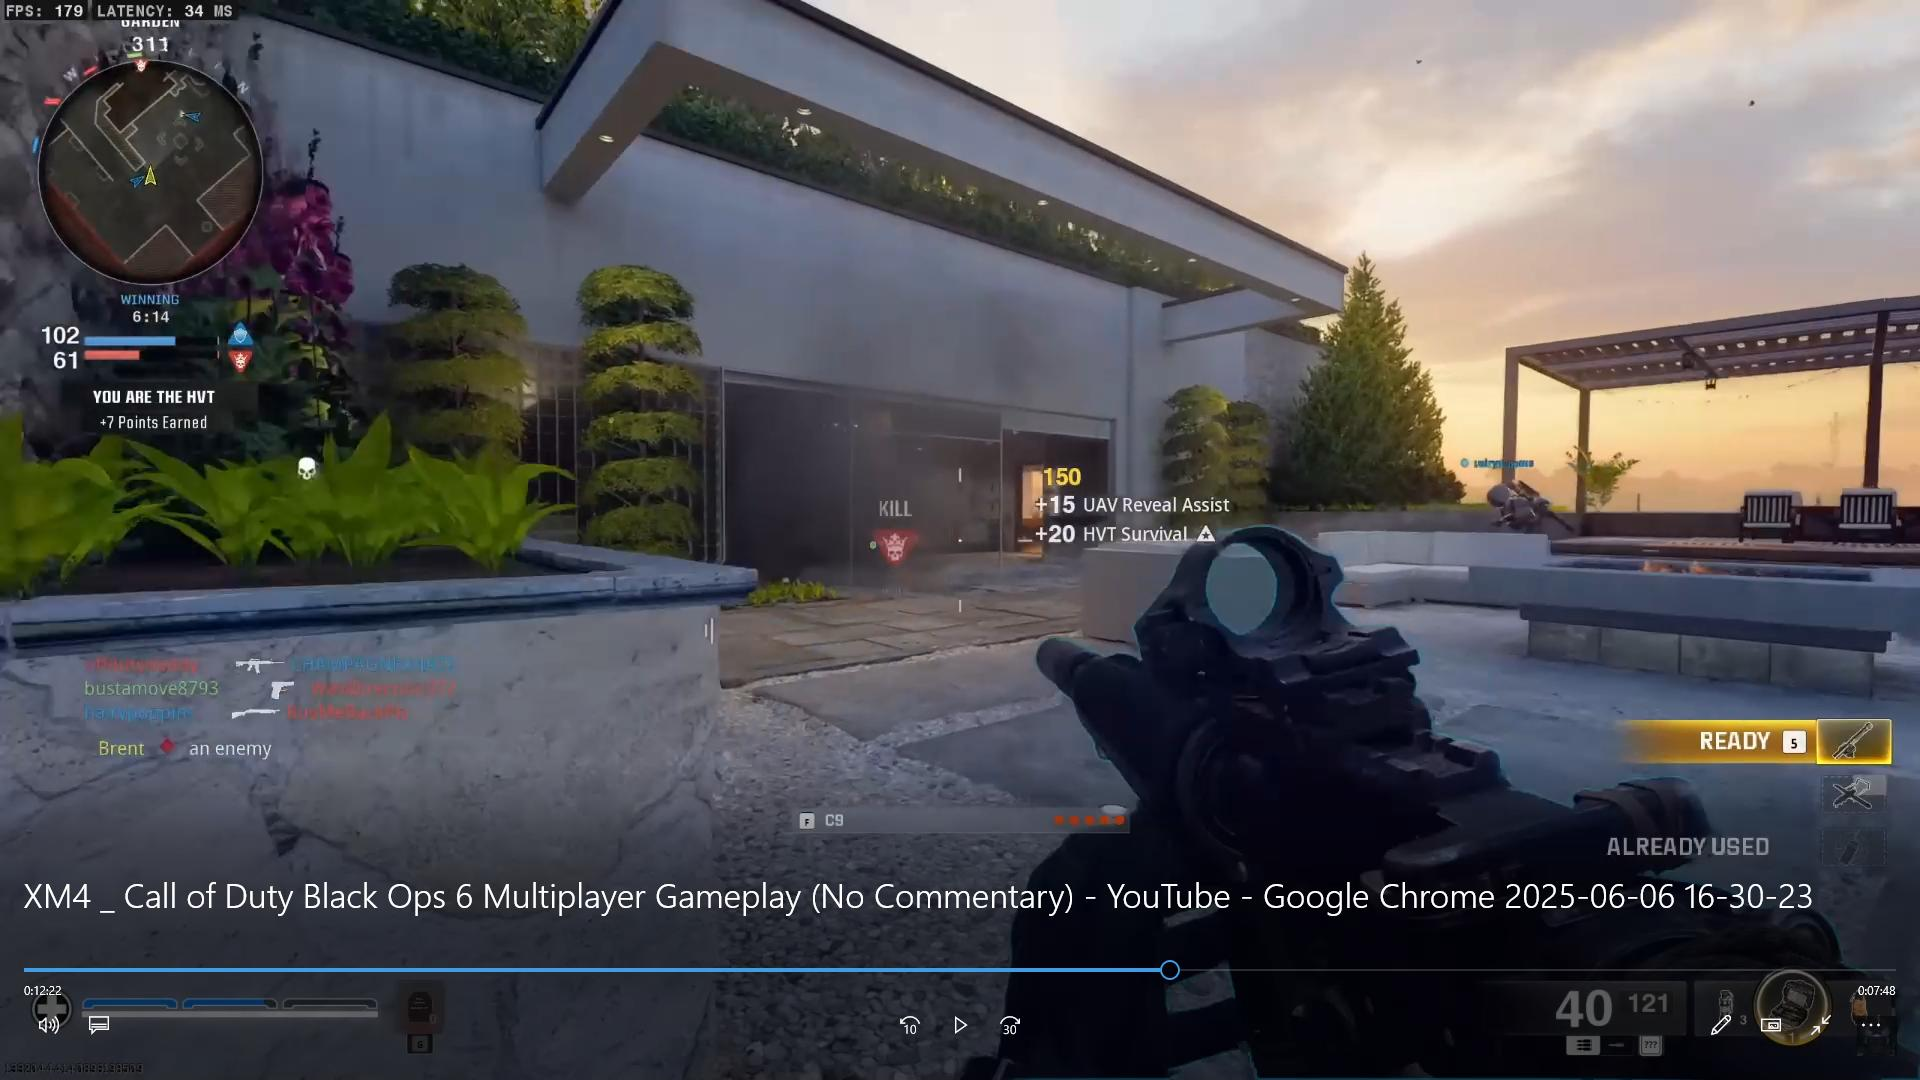Enemy: (1474, 475, 1561, 539)
